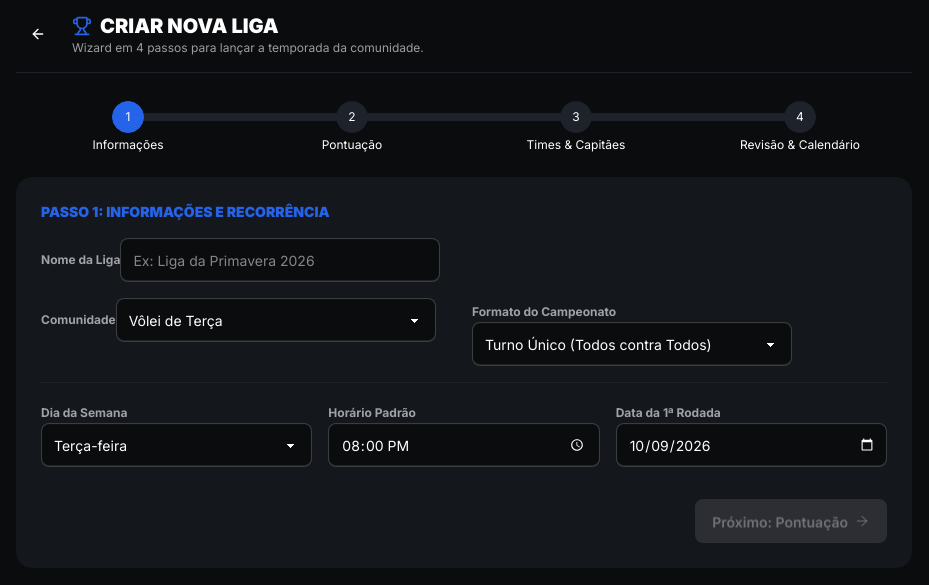
Test: ChampionshipWizardView › trava o avanço enquanto a liga não tem nome
Check: the button "Próximo: Pontuação" is disabled, box x1=695 y1=499 x2=887 y2=543
Type "Liga de Ouro" into the field with placeholder "Ex: Liga da Primavera 2026".
click(280, 260); type("Liga de Ouro")  # box x1=120 y1=238 x2=440 y2=282
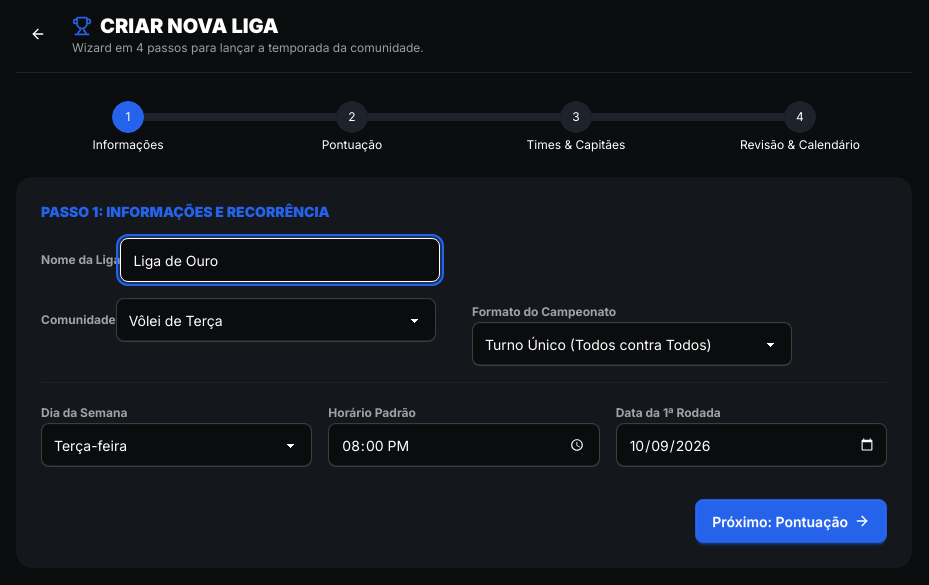
Check: the button "Próximo: Pontuação" is enabled, box x1=695 y1=499 x2=887 y2=543
